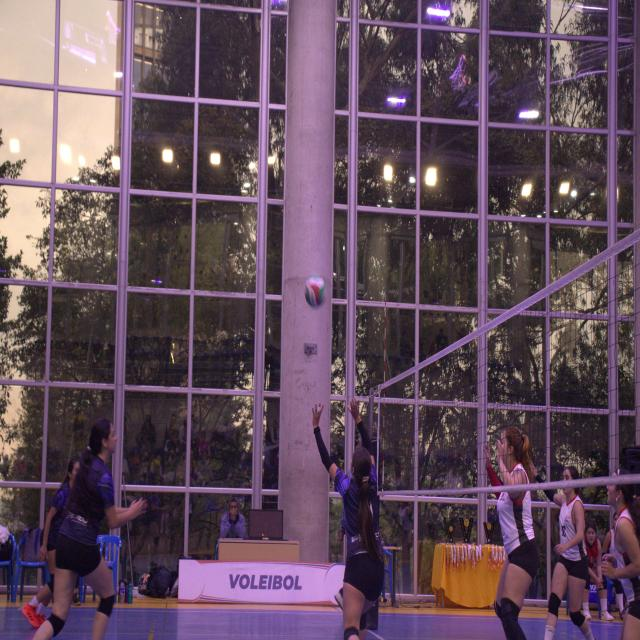volleyball: (304, 275, 328, 307)
